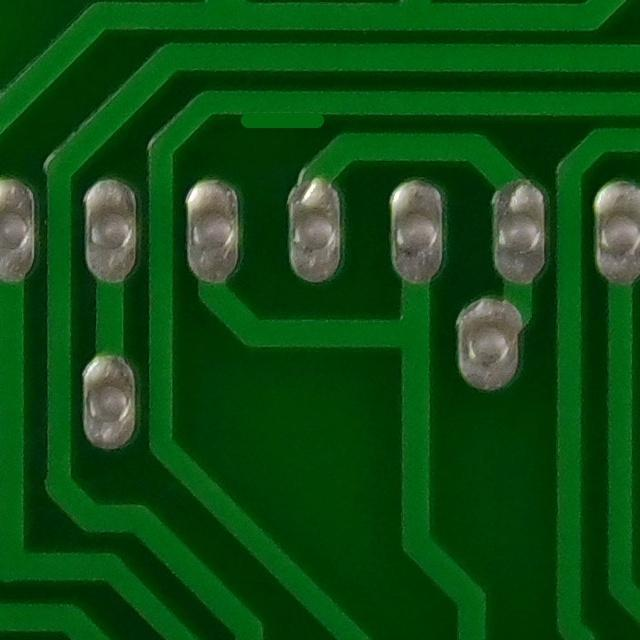spur: (230, 82, 340, 141)
